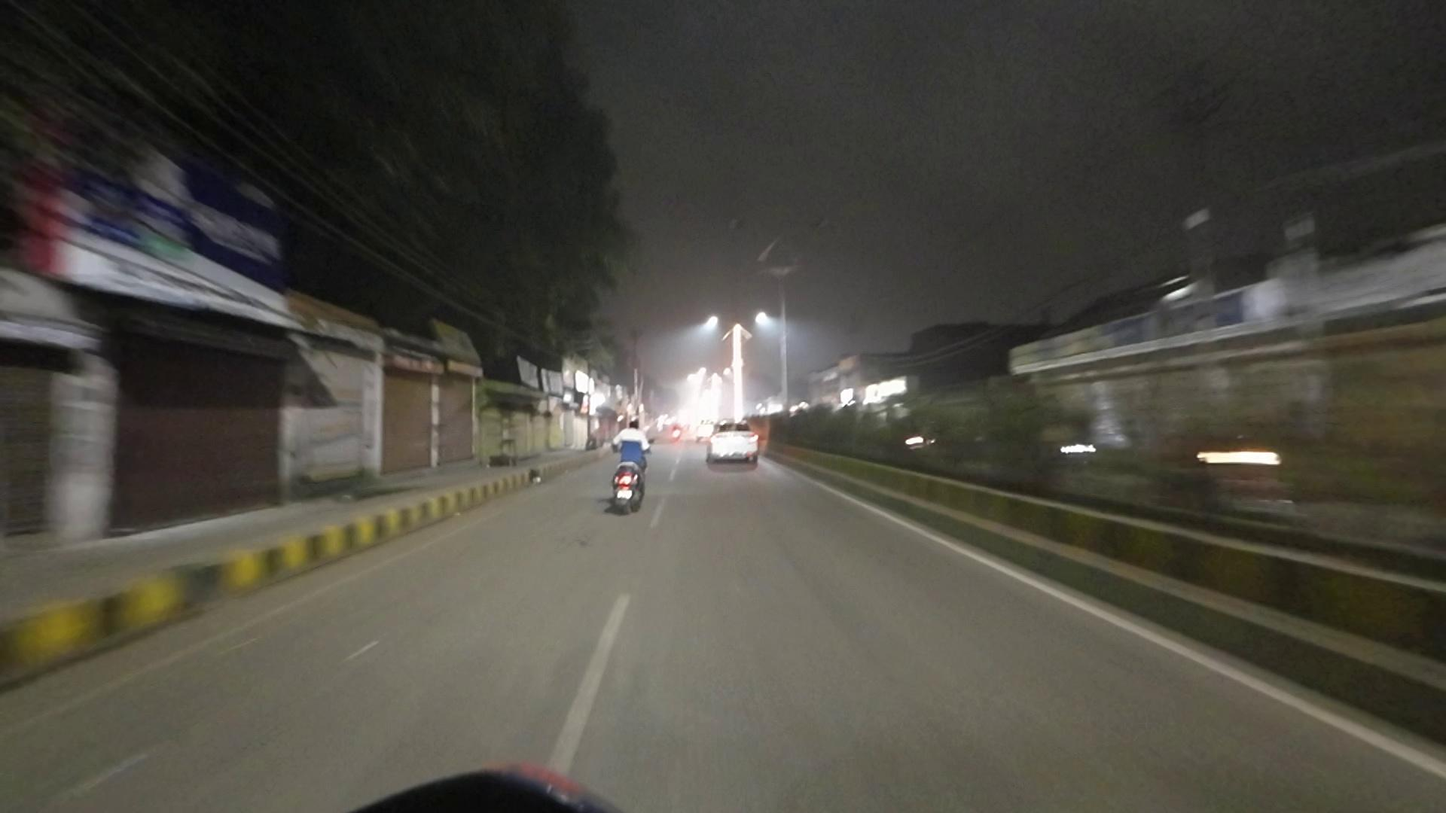streetlight: (726, 217, 773, 241), (786, 214, 833, 236)
